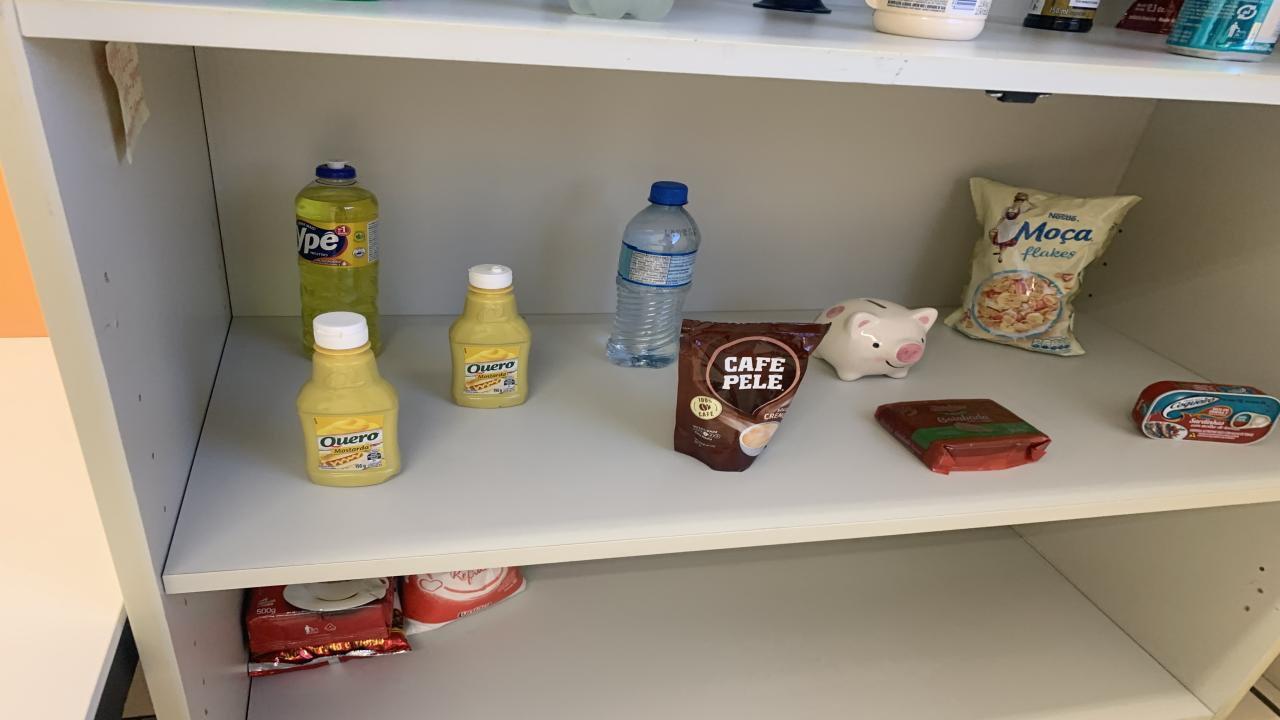Coffee-Pantry_Items: (675, 319, 828, 471)
Detergent-Cleanup_Items: (295, 161, 380, 354)
English_Sauce-Pantry_Items: (1022, 0, 1100, 32)
Flakes-Snacks: (945, 178, 1140, 356)
Guava-Snacks: (875, 398, 1050, 474)
Mayonnaise-Pantry_Items: (865, 0, 992, 41)
Mustard-Pantry_Items: (298, 311, 400, 488), (448, 264, 530, 409)
Pig_Safe-Miscellaneous: (812, 298, 938, 381)
Soda-Drinks: (570, 0, 675, 21)
Tea-Drinks: (1168, 0, 1280, 62)
Tomato_Sauce-Pantry_Items: (1115, 0, 1185, 34)
Tuna_Can-Pantry_Items: (1132, 381, 1280, 444)
Water_Bottle-Drinks: (608, 182, 700, 368)
